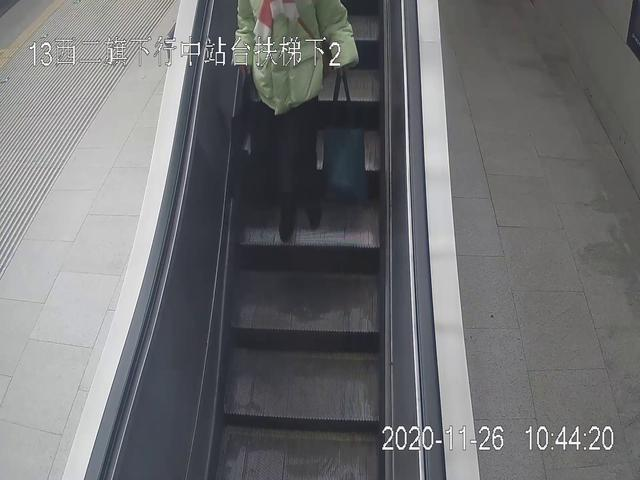person: (230, 1, 358, 241)
